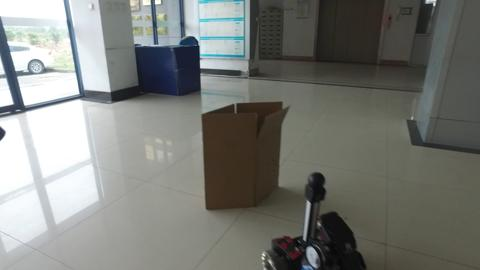box: (201, 99, 284, 213)
chariot: (267, 172, 369, 270)
